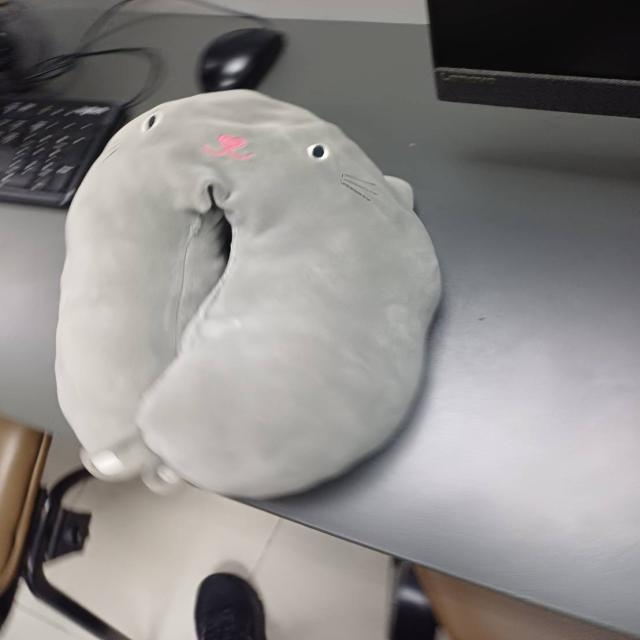pillow: (49, 87, 451, 507)
